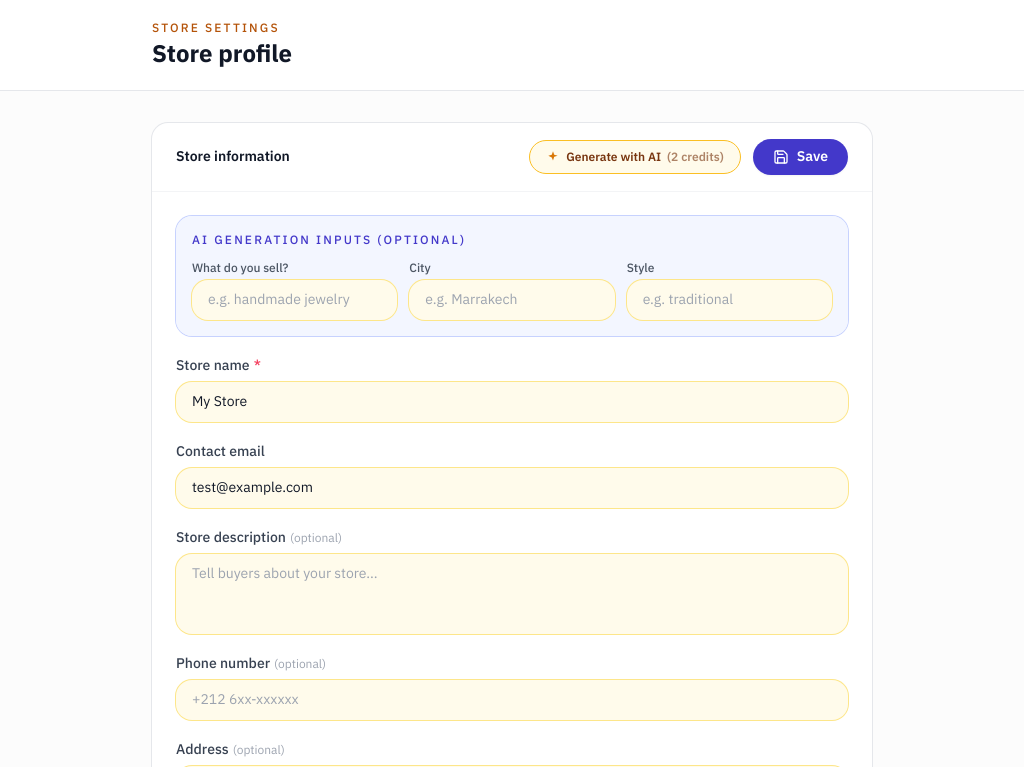
it: StoreSettingsPage — AI store profile generation › opens InsufficientCreditsModal on 402
This screenshot has width=1024, height=767.
Expected: the field labelled "Store name*" is shown, [176, 382, 848, 422]
Click the button "Generate with AI (2 credits)" at [635, 157], box [529, 140, 741, 174]
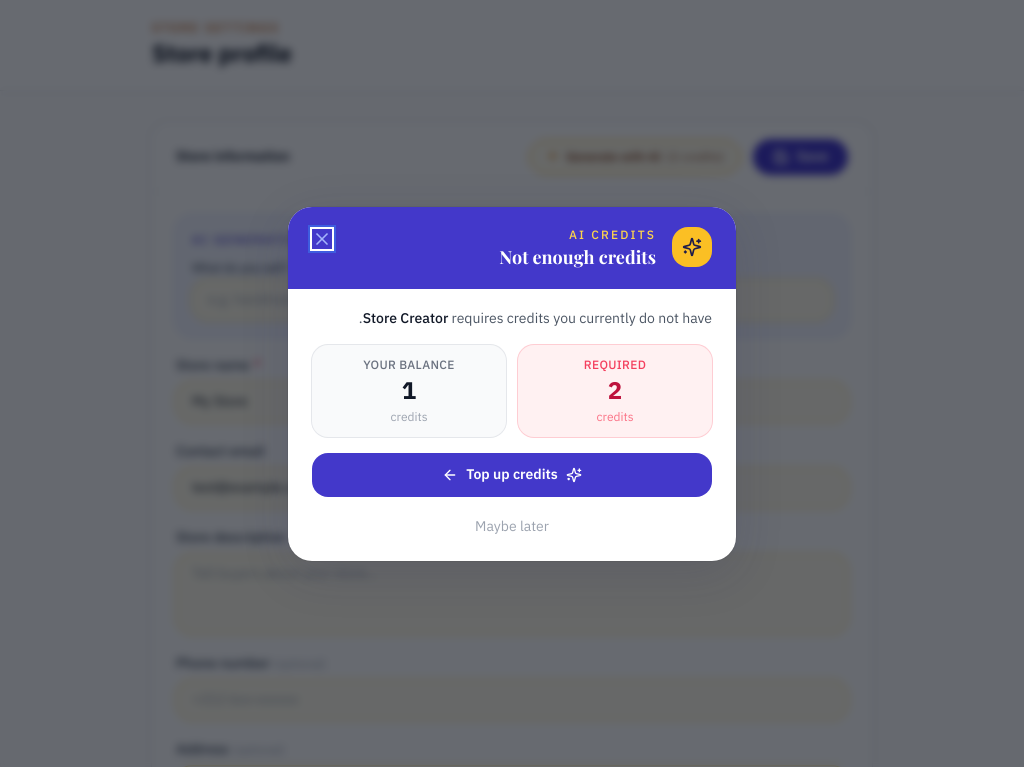
Expected: the dialog is shown, [288, 207, 736, 561]
